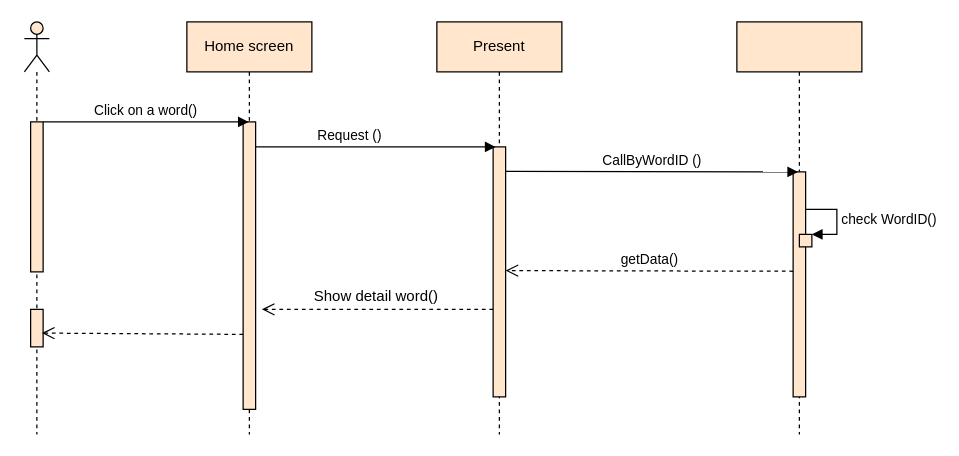
The diagram is 959 pixels wide and 456 high, and some of its shapes have lost their labels. The shapes that lost their labels are listed below. From the top down, each one's box as (x1, y1, x2, y2) in pixels, then its label:
(23, 21, 49, 434): User
(736, 21, 862, 434): Firebase Database
